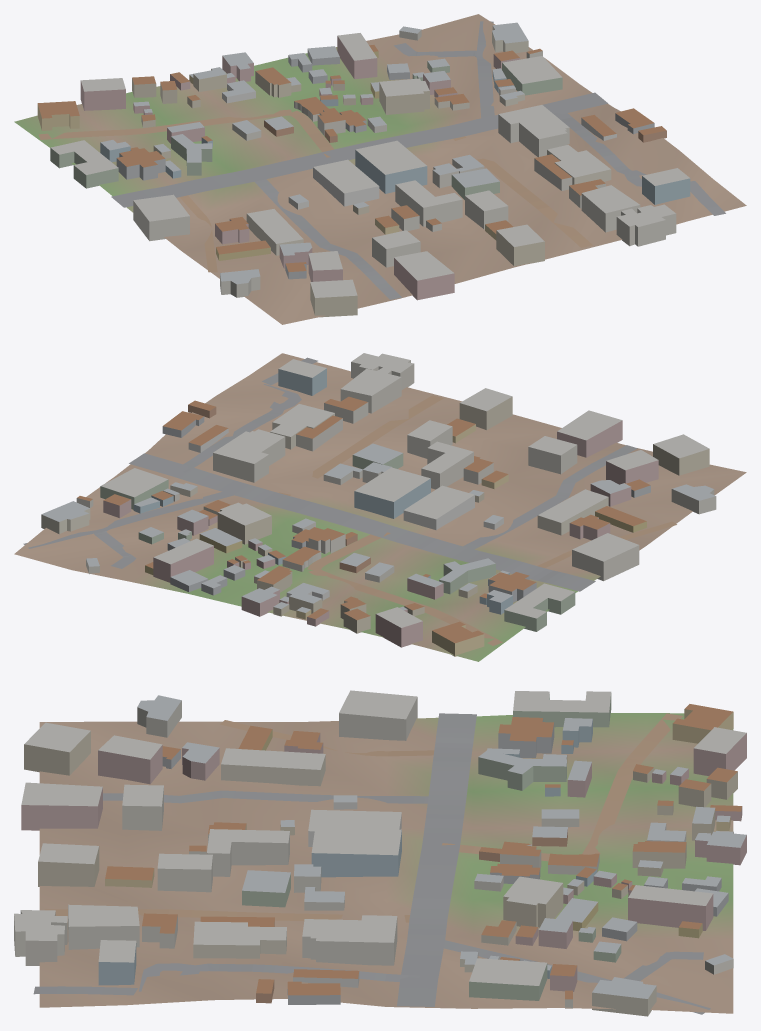
The picture shows the model from 3 angles, top to bottom: view 1: azimuth 30°, elevation 25°; view 2: azimuth 150°, elevation 25°; view 3: azimuth 270°, elevation 25°; orthographic projection. The views are drawn at different scales.
Visible parts, largest first — view 1: Lo; view 2: Lo; view 3: Lo.
Part boxes in pixels (bbox=[...]): Lo: bbox=[14, 14, 746, 324]; Lo: bbox=[14, 353, 746, 661]; Lo: bbox=[14, 690, 746, 1016].
Bounding box in the file's own units: 268 × 15.75 × 270.
